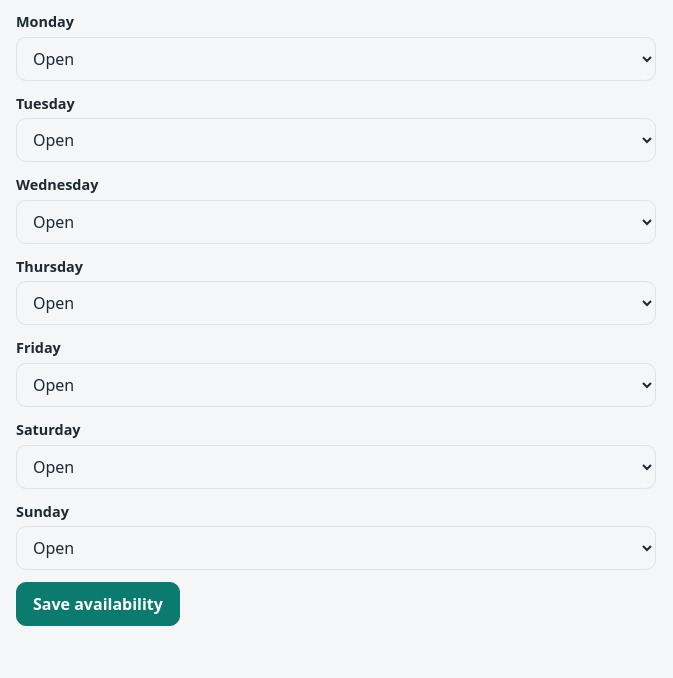
Test: AvailabilityEditor › saves the changed days
Select "Off" in the dropdown labelled "Tuesday": [336, 140] box [16, 118, 656, 162]
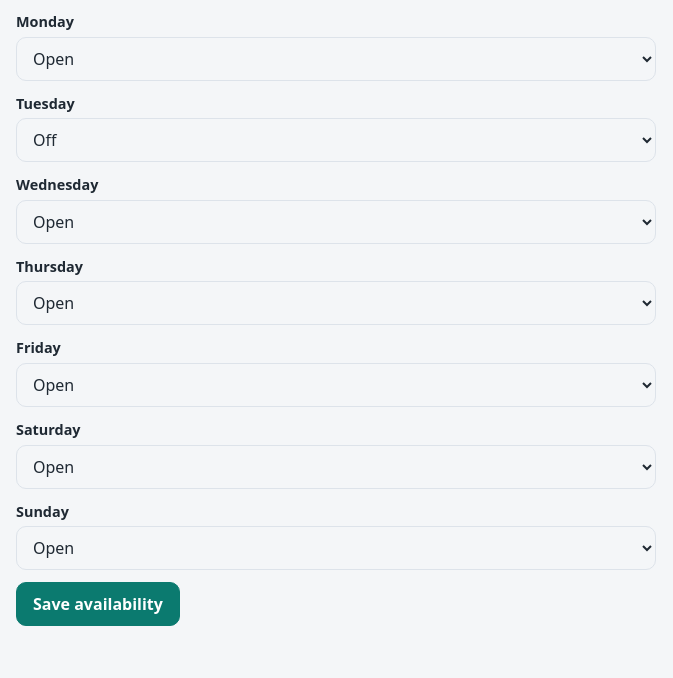
Select "Morning only" in the dropdown labelled "Friday": [336, 385] box [16, 363, 656, 407]
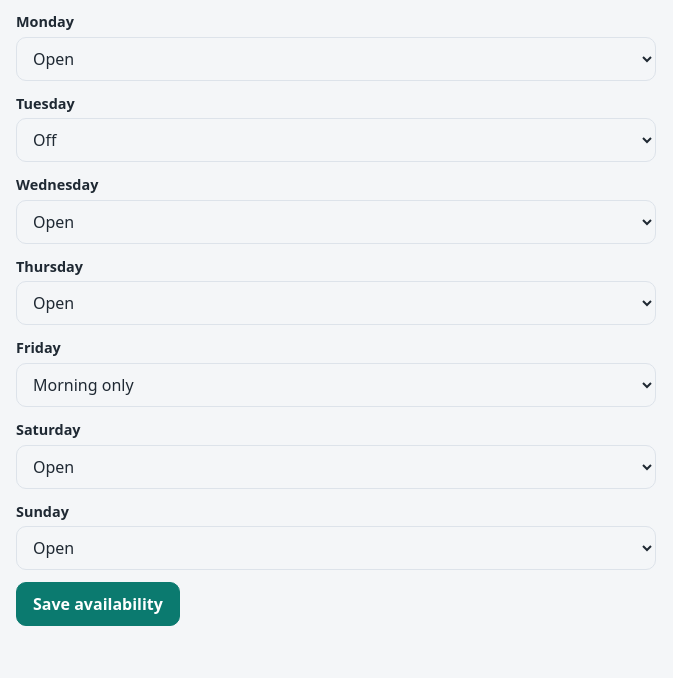
Click the button "Save availability": [98, 604] box [16, 582, 180, 626]
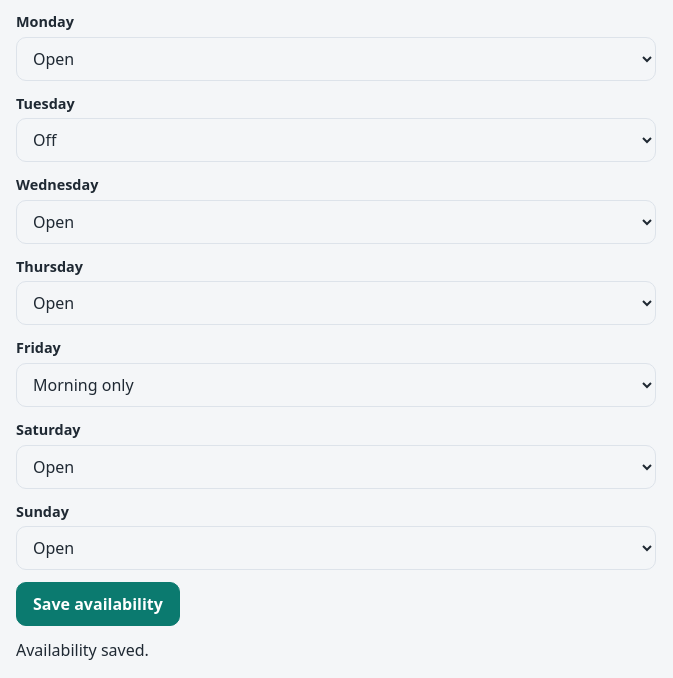
Expected: the text "Availability saved." is shown, [16, 639, 149, 661]
